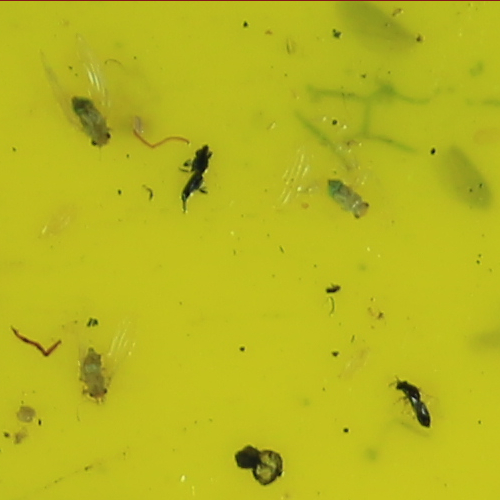Glycaspis: (325, 177, 371, 224), (73, 94, 111, 149), (77, 347, 109, 405)
